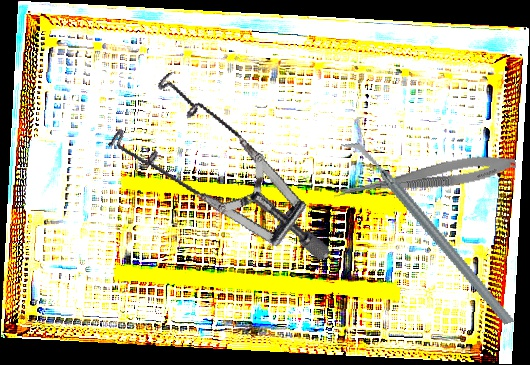Chopper: (341, 111, 515, 355)
Micro Scissor: (331, 148, 518, 210)
Speculum: (92, 42, 332, 314)
